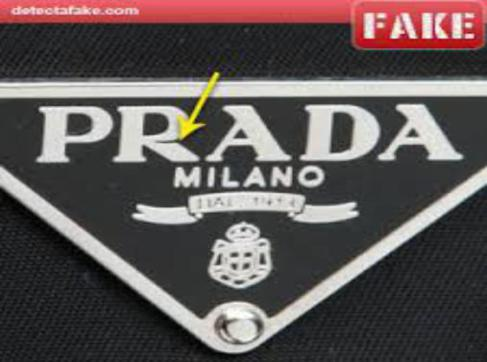PRADA: (29, 99, 469, 166)
